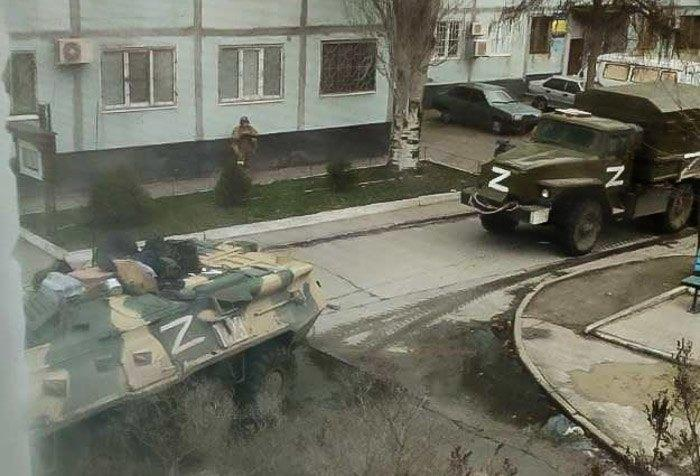car: (430, 85, 536, 130)
person: (232, 111, 261, 185)
tank: (23, 218, 322, 462)
truck: (464, 80, 700, 257)
